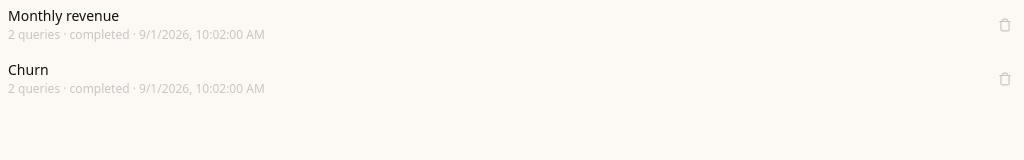
BatchHistory › removes a run from the list when the delete succeeds
Expected: the text "Churn" is shown, 8,60 -> 49,79
Click the button named "Delete Churn" at (1005, 79), box 994,68 -> 1016,90
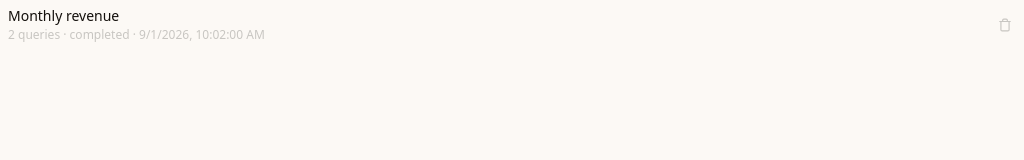
Expected: the text "Monthly revenue" is shown, 8,6 -> 119,25
Now the button "Churn" is gone
